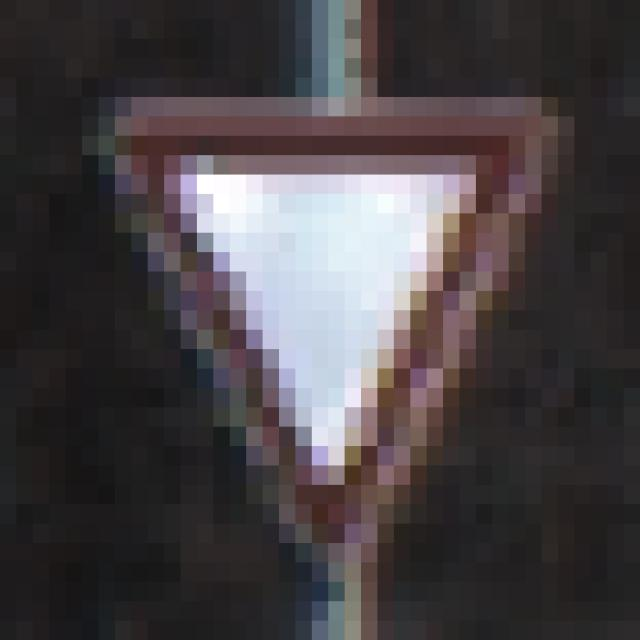Give Way: (99, 98, 559, 544)
